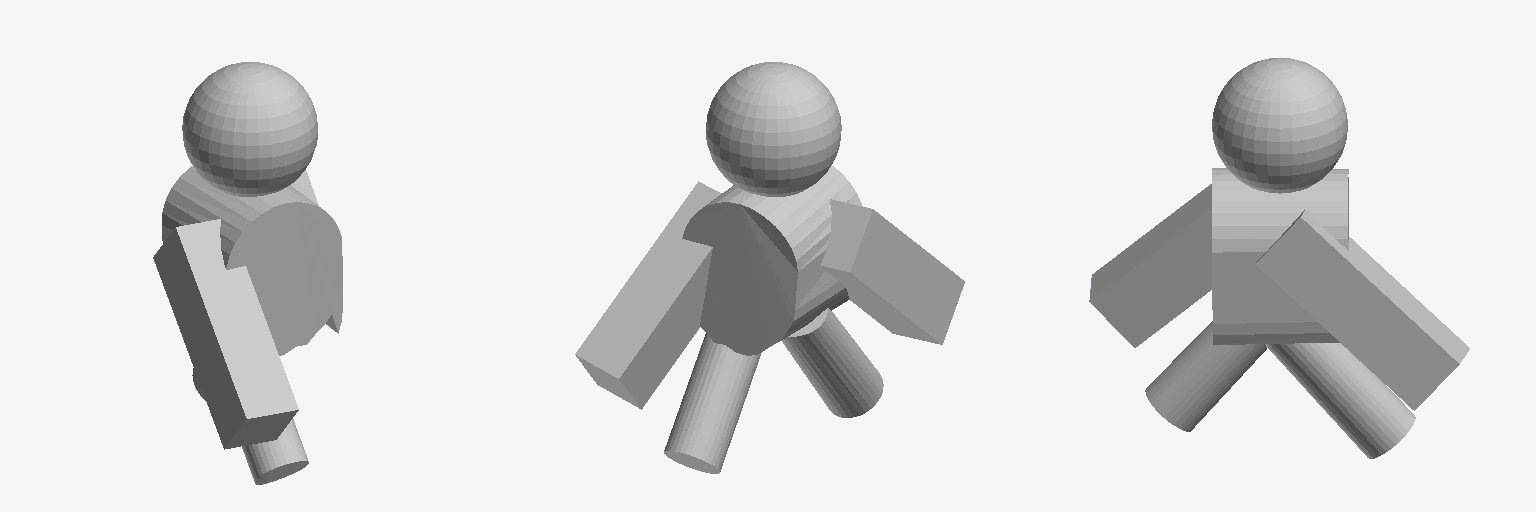
Rendered from Figurine145.obj.
3 views of the same model, side by side, from view 1: azimuth 30°, elevation 25°; view 2: azimuth 150°, elevation 25°; view 3: azimuth 270°, elevation 25° (orthographic).
Visible parts, largest first — view 1: Cylinder; view 2: Cylinder; view 3: Cylinder.
Boxes of the visible parts, x1=… form: Cylinder: x1=153, y1=62, x2=342, y2=484; Cylinder: x1=575, y1=62, x2=964, y2=473; Cylinder: x1=1089, y1=58, x2=1469, y2=458.
Size of the model in its own units: 3.49 by 6.13 by 5.59.